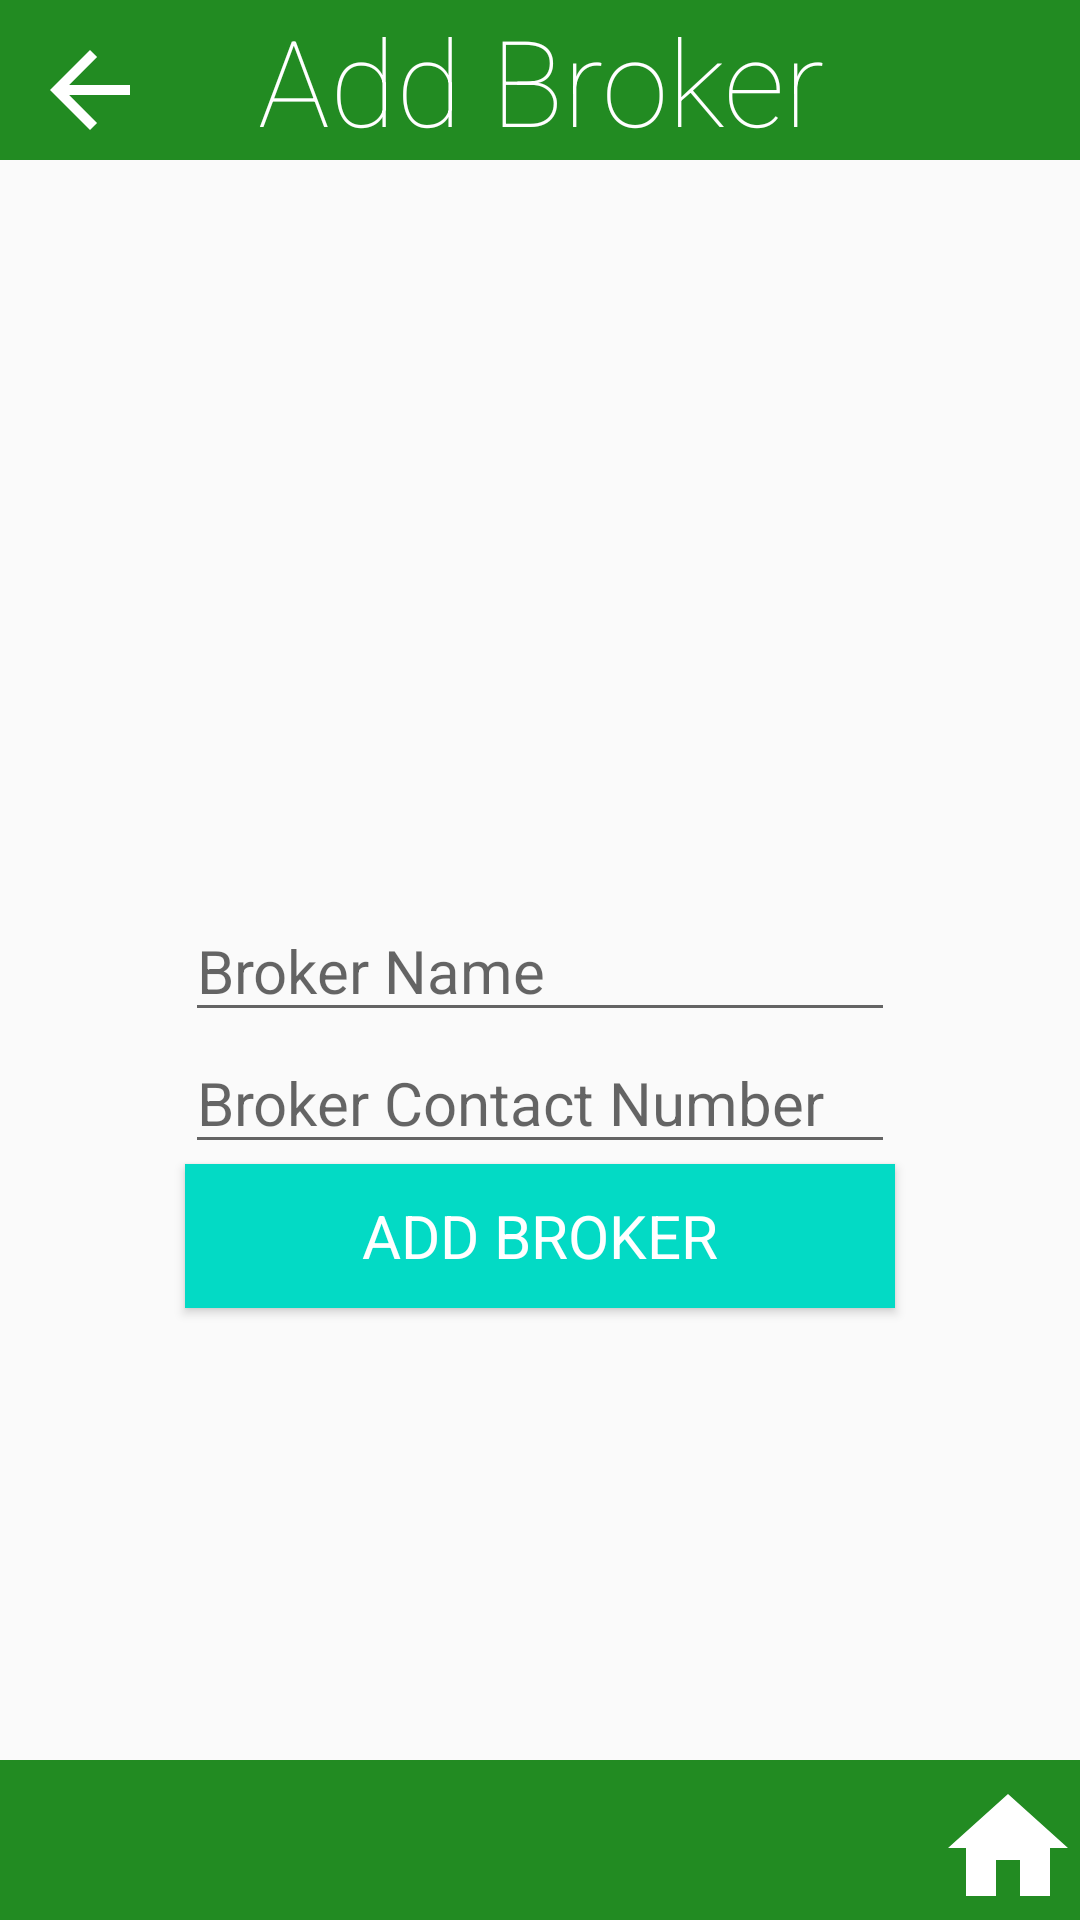

Icons on this 1080px×1920px Android screen, each with its box as (x1, y1, x2, y2):
arrow back: (50, 50, 130, 130)
home: (948, 1794, 1068, 1896)
